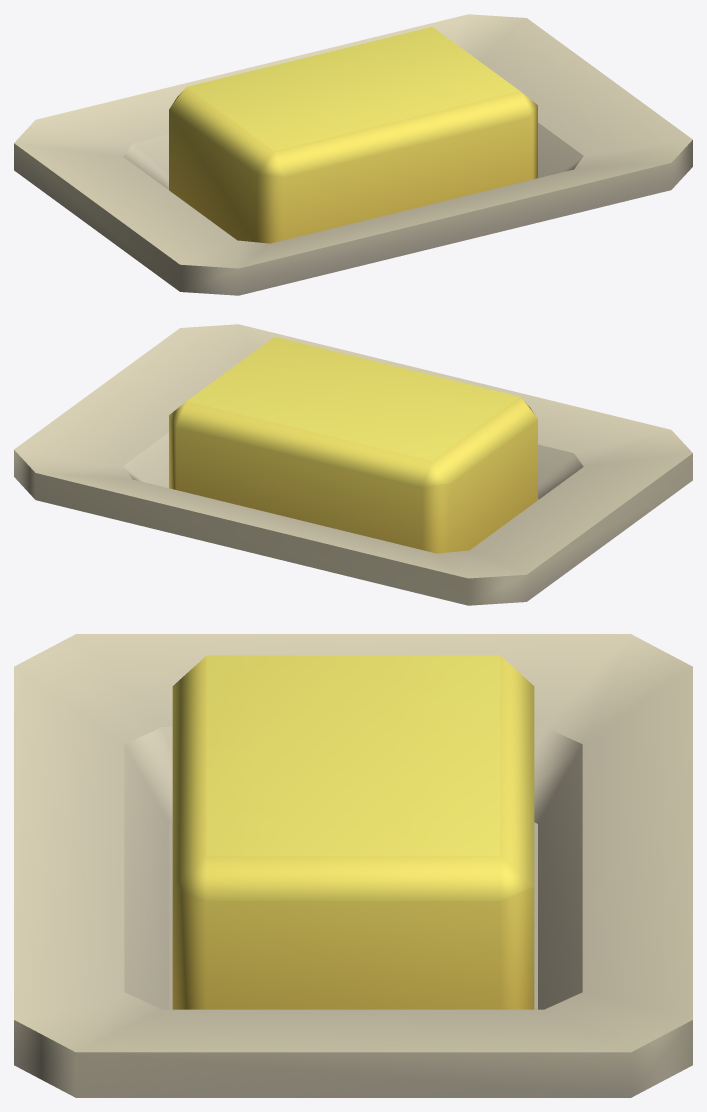
File: butter.fbx
3 renders of one model, top to bottom at view 1: azimuth 30°, elevation 25°; view 2: azimuth 150°, elevation 25°; view 3: azimuth 270°, elevation 25°, orthographic. The views are drawn at different scales.
Parts seen in each view (by area): view 1: butter; view 2: butter; view 3: butter.
Part boxes in pixels (<box>): butter: <box>14,14,692,295</box>; butter: <box>14,324,692,605</box>; butter: <box>14,634,692,1097</box>.
Size of the model in its own units: 47.94 by 10.21 by 32.88.
